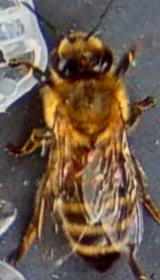varroa_mite: (58, 150, 88, 183)
